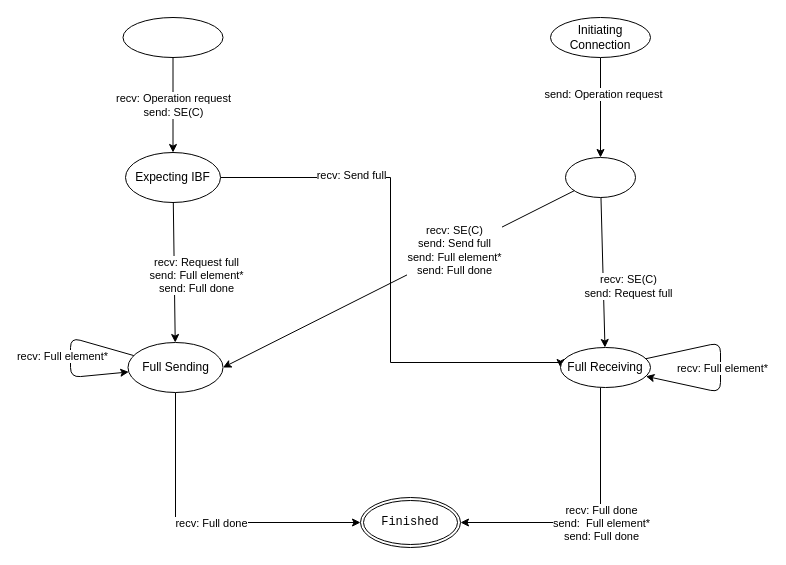
Image size: 786x565. Some labels were removed from this diagram. Each missing label, with the centre of its shape:
Expect SE: (600,177)
Expecting Connection: (172,37)
